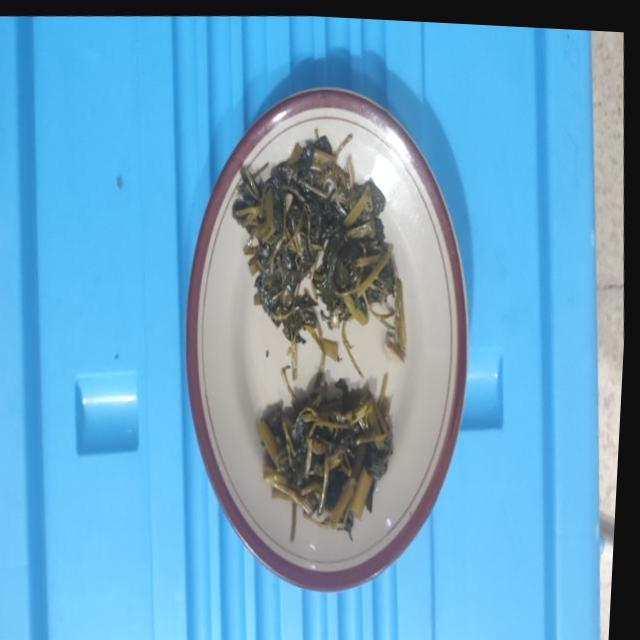tumis_kangkung: (234, 143, 406, 348), (258, 380, 392, 536)
